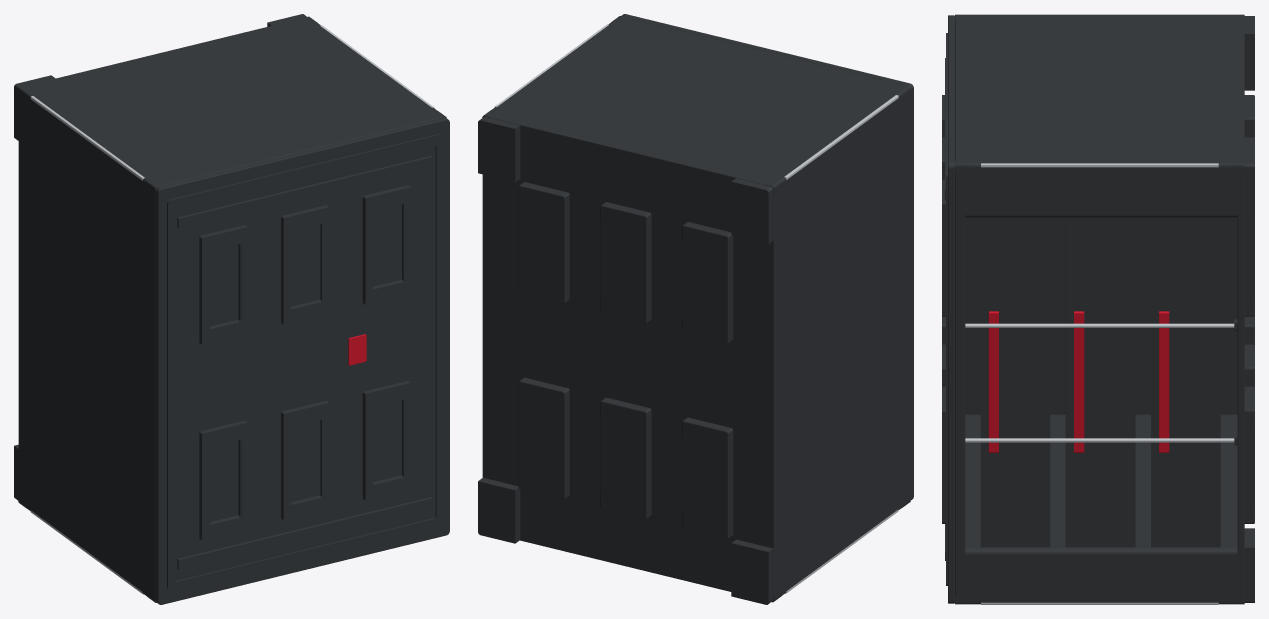
The picture shows the model from 3 angles, left to right: view 1: azimuth 30°, elevation 25°; view 2: azimuth 150°, elevation 25°; view 3: azimuth 270°, elevation 25°; orthographic projection. The views are drawn at different scales.
Visible parts, largest first — view 1: skrin-horni-panel, skrin-zadni-stena, skrin-bocnice-1, viko-prolis-obvod, skrin-bocnice--1, PACKOUT-horni-drazka-1-1, PACKOUT-horni-drazka-1--1, PACKOUT-horni-drazka-0--1, PACKOUT-horni-drazka--1--1, PACKOUT-horni-drazka--1-1, PACKOUT-horni-drazka-0-1, PACKOUT-lista--231.23999999999998 (+6 smaller); view 2: skrin-zadni-stena, skrin-dno, skrin-bocnice-1, skrin-bocnice--1, PACKOUT-spodni-patka--1-1, PACKOUT-spodni-patka-0--1, PACKOUT-spodni-patka-0-1, PACKOUT-spodni-patka-1--1, PACKOUT-spodni-patka-1-1, PACKOUT-spodni-patka--1--1, skrin-horni-panel, patka--1-1 (+9 smaller); view 3: skrin-bocnice-1, skrin-bocnice--1, zasuvka-1-celo, zasuvka-0-celo, zasuvka-2-celo, skrin-zadni-stena, skrin-strop, skrin-horni-panel, skrin-dno, roh-ochrana-1-1, roh-ochrana-1--1, zasuvka-2-cerveny-uchop (+19 smaller).
Part boxes in pixels (left/top/right/bottom): skrin-horni-panel: left=155, top=117, right=449, bottom=604; skrin-zadni-stena: left=18, top=81, right=179, bottom=597; skrin-bocnice-1: left=18, top=17, right=441, bottom=231; viko-prolis-obvod: left=167, top=134, right=442, bottom=591; skrin-bocnice--1: left=18, top=460, right=154, bottom=598; PACKOUT-horni-drazka-1-1: left=362, top=185, right=412, bottom=305; PACKOUT-horni-drazka-1--1: left=362, top=381, right=412, bottom=501; PACKOUT-horni-drazka-0--1: left=281, top=401, right=330, bottom=521; PACKOUT-horni-drazka--1--1: left=199, top=420, right=248, bottom=541; PACKOUT-horni-drazka--1-1: left=199, top=225, right=248, bottom=345; PACKOUT-horni-drazka-0-1: left=281, top=205, right=330, bottom=325; PACKOUT-lista--231.23999999999998: left=177, top=497, right=432, bottom=569; skrin-zadni-stena: left=746, top=81, right=910, bottom=584; skrin-dno: left=482, top=114, right=776, bottom=598; skrin-bocnice-1: left=487, top=17, right=905, bottom=232; skrin-bocnice--1: left=520, top=497, right=873, bottom=595; PACKOUT-spodni-patka--1-1: left=682, top=222, right=733, bottom=343; PACKOUT-spodni-patka-0--1: left=600, top=397, right=651, bottom=519; PACKOUT-spodni-patka-0-1: left=600, top=202, right=651, bottom=323; PACKOUT-spodni-patka-1--1: left=518, top=377, right=569, bottom=499; PACKOUT-spodni-patka-1-1: left=518, top=182, right=569, bottom=303; PACKOUT-spodni-patka--1--1: left=682, top=417, right=733, bottom=539; skrin-horni-panel: left=621, top=14, right=913, bottom=499; patka--1-1: left=731, top=178, right=773, bottom=243; skrin-bocnice-1: left=955, top=16, right=1243, bottom=217; skrin-bocnice--1: left=955, top=414, right=1243, bottom=598; zasuvka-1-celo: left=1065, top=217, right=1135, bottom=547; zasuvka-0-celo: left=980, top=217, right=1050, bottom=547; zasuvka-2-celo: left=1151, top=217, right=1220, bottom=547; skrin-zadni-stena: left=955, top=16, right=1243, bottom=414; skrin-strop: left=955, top=15, right=965, bottom=601; skrin-horni-panel: left=948, top=15, right=954, bottom=603; skrin-dno: left=1237, top=15, right=1244, bottom=600; roh-ochrana-1-1: left=955, top=160, right=1244, bottom=174; roh-ochrana-1--1: left=955, top=595, right=1244, bottom=604; zasuvka-2-cerveny-uchop: left=1159, top=311, right=1169, bottom=452.
Size of the model in its own units: 414 by 564 by 363.
